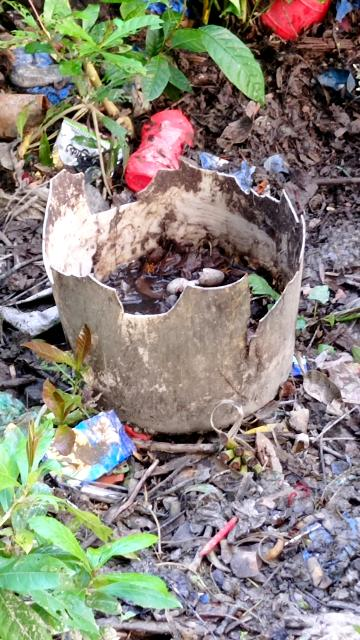hardplastic: (38, 169, 311, 435)
